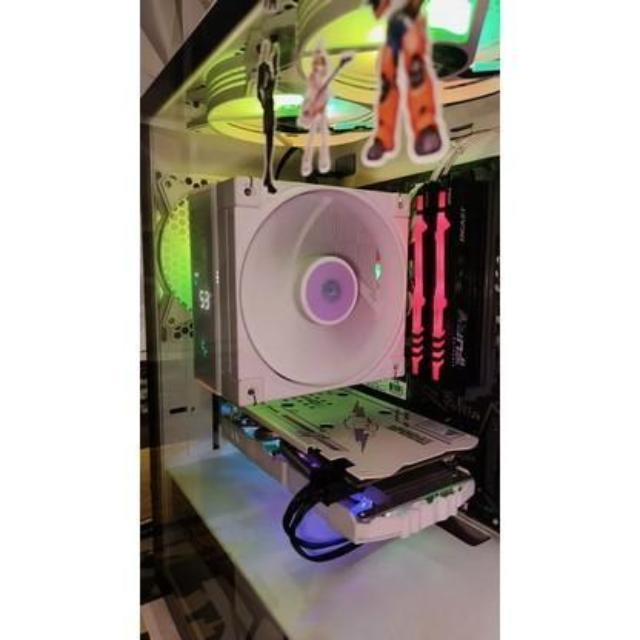CPU_Fan: (190, 180, 408, 391)
